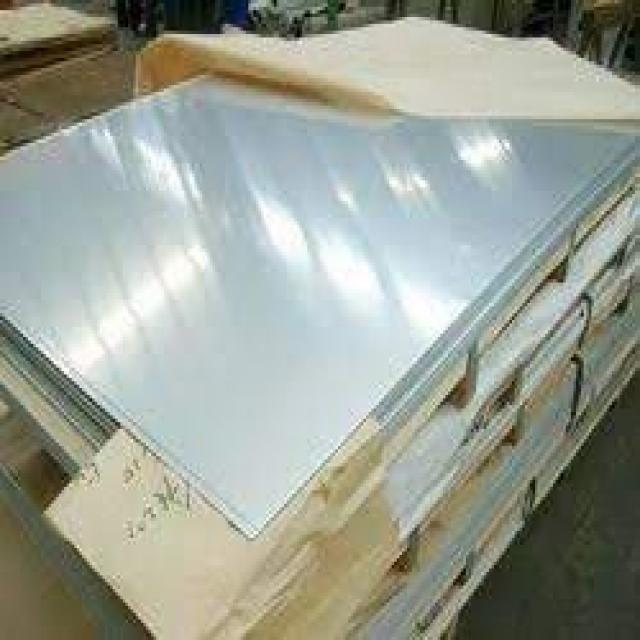Dry: (0, 82, 640, 545)
